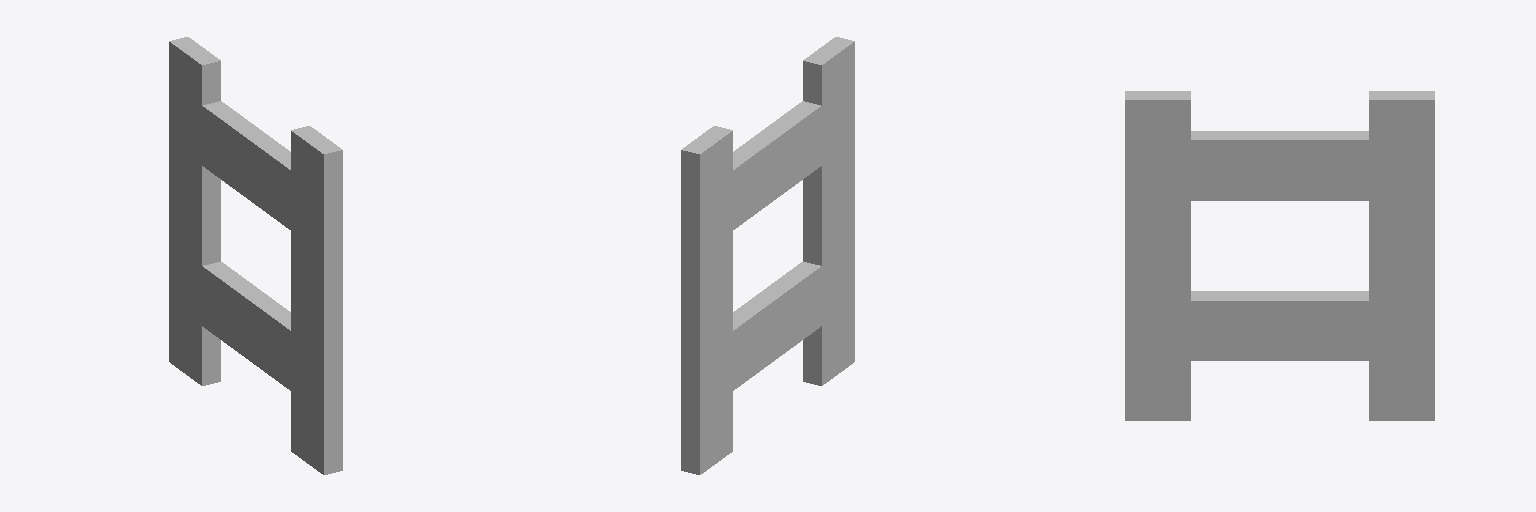
File: Stair.obj
3 renders of one model, left to right at view 1: azimuth 30°, elevation 25°; view 2: azimuth 150°, elevation 25°; view 3: azimuth 270°, elevation 25°, orthographic.
Parts seen in each view (by area): view 1: object 1; view 2: object 1; view 3: object 1.
Boxes of the visible parts, x1,y1,x2,y2 form: object 1: [169, 37, 342, 474]; object 1: [681, 37, 854, 474]; object 1: [1125, 91, 1434, 420].
Bounding box in the file's own units: 0.1 × 1.6 × 1.4.